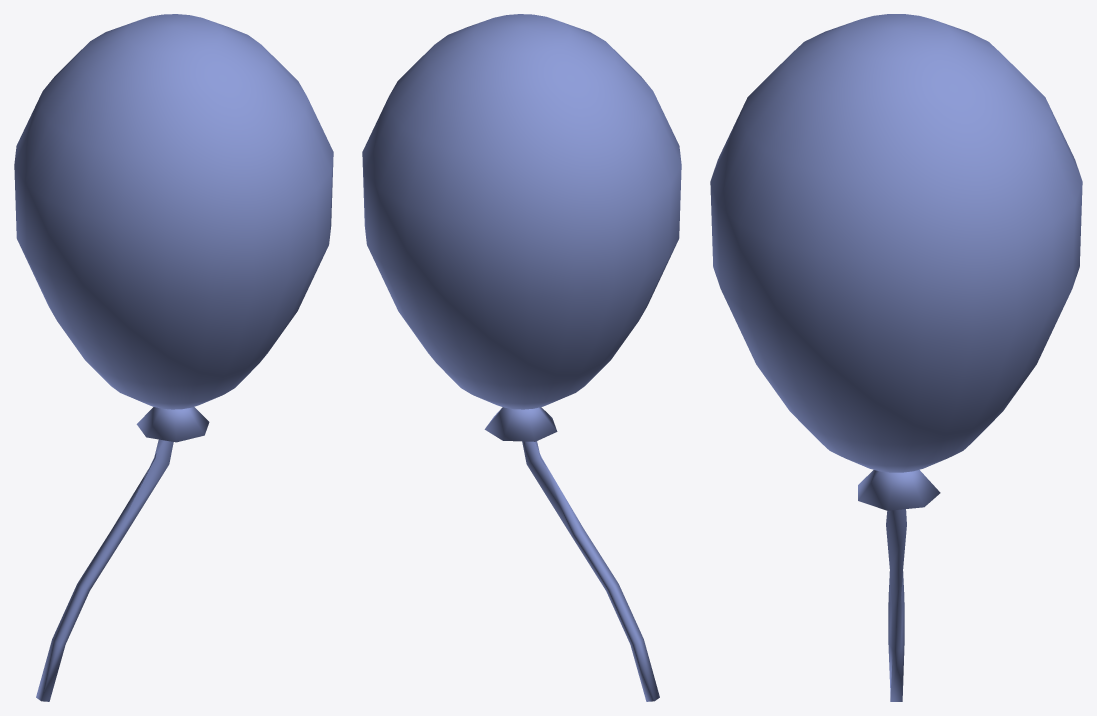
Rendered from Stickman_Clown_02_Baloon.fbx.
3 views of the same model, side by side, from view 1: azimuth 30°, elevation 25°; view 2: azimuth 150°, elevation 25°; view 3: azimuth 270°, elevation 25° (orthographic). The views are drawn at different scales.
Parts seen in each view (by area): view 1: Stickman_Clown_02_Baloon; view 2: Stickman_Clown_02_Baloon; view 3: Stickman_Clown_02_Baloon.
Boxes of the visible parts, x1,y1,x2,y2 form: Stickman_Clown_02_Baloon: [14, 14, 333, 701]; Stickman_Clown_02_Baloon: [362, 14, 681, 701]; Stickman_Clown_02_Baloon: [710, 14, 1082, 701].
Bounding box in the file's own units: 1.16 × 2.59 × 1.17.
